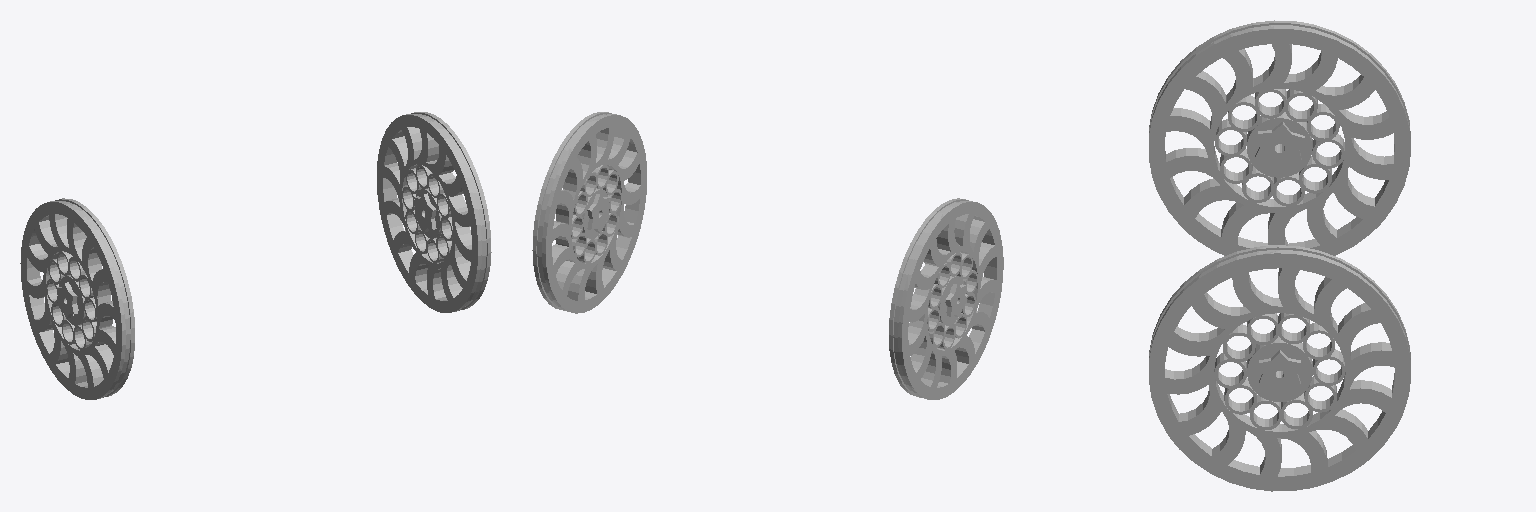
The robot description file, URDF, robot "main assembly urdf 2":
<?xml version="1.0" encoding="utf-8"?>
<!-- This URDF was automatically created by SolidWorks to URDF Exporter! Originally created by [author] ([email redacted]) 
     Commit Version: 1.6.0-4-g7f85cfe  Build Version: 1.6.7995.38578
     For more information, please see http://wiki.ros.org/sw_urdf_exporter -->
<robot
  name="main assembly urdf 2">
  <link
    name="base_link">
    <inertial>
      <origin
        xyz="-0.000336179776168635 0.000354310774418248 0.0042734996800526"
        rpy="0 0 0" />
      <mass
        value="0.539677095998046" />
      <inertia
        ixx="0.000264957198463207"
        ixy="2.84909543588439E-07"
        ixz="7.50259974067983E-08"
        iyy="0.000613798841644977"
        iyz="-2.77217301487706E-07"
        izz="0.000765651566345422" />
    </inertial>
    <visual>
      <origin
        xyz="0 0 0"
        rpy="0 0 0" />
      <geometry>
        <mesh
          filename="package://main assembly urdf 2/meshes/base_link.STL" />
      </geometry>
      <material
        name="">
        <color
          rgba="0.752941176470588 0.752941176470588 0.752941176470588 1" />
      </material>
    </visual>
    <collision>
      <origin
        xyz="0 0 0"
        rpy="0 0 0" />
      <geometry>
        <mesh
          filename="package://main assembly urdf 2/meshes/base_link.STL" />
      </geometry>
    </collision>
  </link>
  <link
    name="left_link">
    <inertial>
      <origin
        xyz="-1.08369629587823E-05 3.39454456535493E-06 3.23988610072476E-05"
        rpy="0 0 0" />
      <mass
        value="0.0181212751055899" />
      <inertia
        ixx="1.53230236850118E-05"
        ixy="1.09380617700153E-13"
        ixz="1.04397213966285E-12"
        iyy="7.71902602679728E-06"
        iyz="-2.8596971978708E-13"
        izz="7.71902332735251E-06" />
    </inertial>
    <visual>
      <origin
        xyz="0 0 0"
        rpy="0 0 0" />
      <geometry>
        <mesh
          filename="package://main assembly urdf 2/meshes/left_link.STL" />
      </geometry>
      <material
        name="">
        <color
          rgba="0.752941176470588 0.752941176470588 0.752941176470588 1" />
      </material>
    </visual>
    <collision>
      <origin
        xyz="0 0 0"
        rpy="0 0 0" />
      <geometry>
        <mesh
          filename="package://main assembly urdf 2/meshes/left_link.STL" />
      </geometry>
    </collision>
  </link>
  <joint
    name="l_joint"
    type="continuous">
    <origin
      xyz="-0.075794 -0.0053089 -0.063666"
      rpy="0 0 0" />
    <parent
      link="base_link" />
    <child
      link="left_link" />
    <axis
      xyz="1 0 0" />
    <dynamics
      friction="0.25" />
  </joint>
  <link
    name="right_wheel">
    <inertial>
      <origin
        xyz="1.08369629591015E-05 2.4980018054066E-16 3.257620492585E-05"
        rpy="0 0 0" />
      <mass
        value="0.0181212751055898" />
      <inertia
        ixx="1.53230236850118E-05"
        ixy="4.67129764216835E-21"
        ixz="-1.04968659450167E-12"
        iyy="7.71902605675847E-06"
        iyz="1.00790823772942E-21"
        izz="7.71902329738955E-06" />
    </inertial>
    <visual>
      <origin
        xyz="0 0 0"
        rpy="0 0 0" />
      <geometry>
        <mesh
          filename="package://main assembly urdf 2/meshes/right_wheel.STL" />
      </geometry>
      <material
        name="">
        <color
          rgba="0.752941176470588 0.752941176470588 0.752941176470588 1" />
      </material>
    </visual>
    <collision>
      <origin
        xyz="0 0 0"
        rpy="0 0 0" />
      <geometry>
        <mesh
          filename="package://main assembly urdf 2/meshes/right_wheel.STL" />
      </geometry>
    </collision>
  </link>
  <joint
    name="r_joint"
    type="continuous">
    <origin
      xyz="0.085806 -0.0052464 -0.06367"
      rpy="0 0 0" />
    <parent
      link="base_link" />
    <child
      link="right_wheel" />
    <axis
      xyz="1 0 0" />
    <dynamics
      friction="0.25" />
  </joint>
</robot>

--- Render facts (derived) ---
3 views of the same robot in one strip: view 1: azimuth 30°, elevation 25°; view 2: azimuth 150°, elevation 25°; view 3: azimuth 270°, elevation 25° (orthographic).
Model main assembly urdf 2 with 3 links and 2 joints (2 continuous), rooted at base_link, posed every joint at zero.
Visible links, largest first — view 1: right_wheel, left_link; view 2: left_link, right_wheel; view 3: right_wheel, left_link.
Link boxes in pixels (x1=…): right_wheel: x1=377, y1=112, x2=491, y2=312; left_link: x1=20, y1=198, x2=134, y2=399; left_link: x1=889, y1=198, x2=1003, y2=399; right_wheel: x1=532, y1=112, x2=646, y2=313; right_wheel: x1=1149, y1=245, x2=1410, y2=491; left_link: x1=1149, y1=20, x2=1410, y2=255.
Bounding box of the posed robot: 0.173 × 0.0799 × 0.08 m (x, y, z).
Meshes: 3 distinct files referenced, 2 mesh visuals loaded (2 binary STL); not drawn: 1 (reference not matched to a file when rendering).